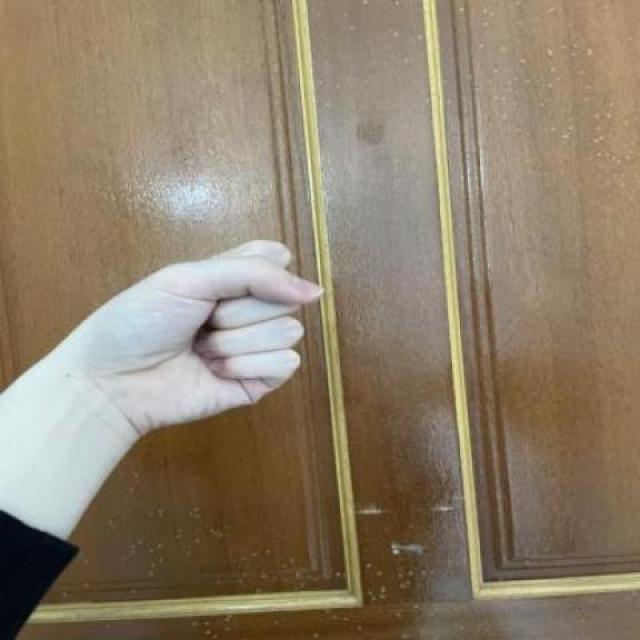Closed Hand: (62, 233, 330, 438)
